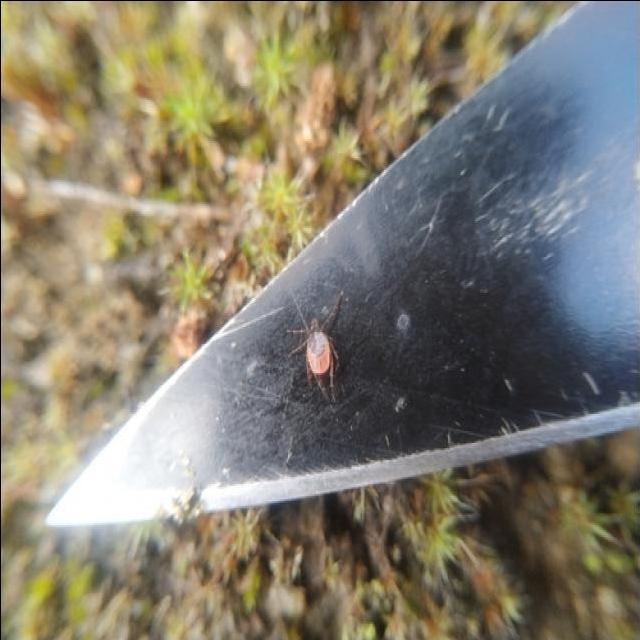Ixodes Ricinus-F: (296, 299, 347, 403)
